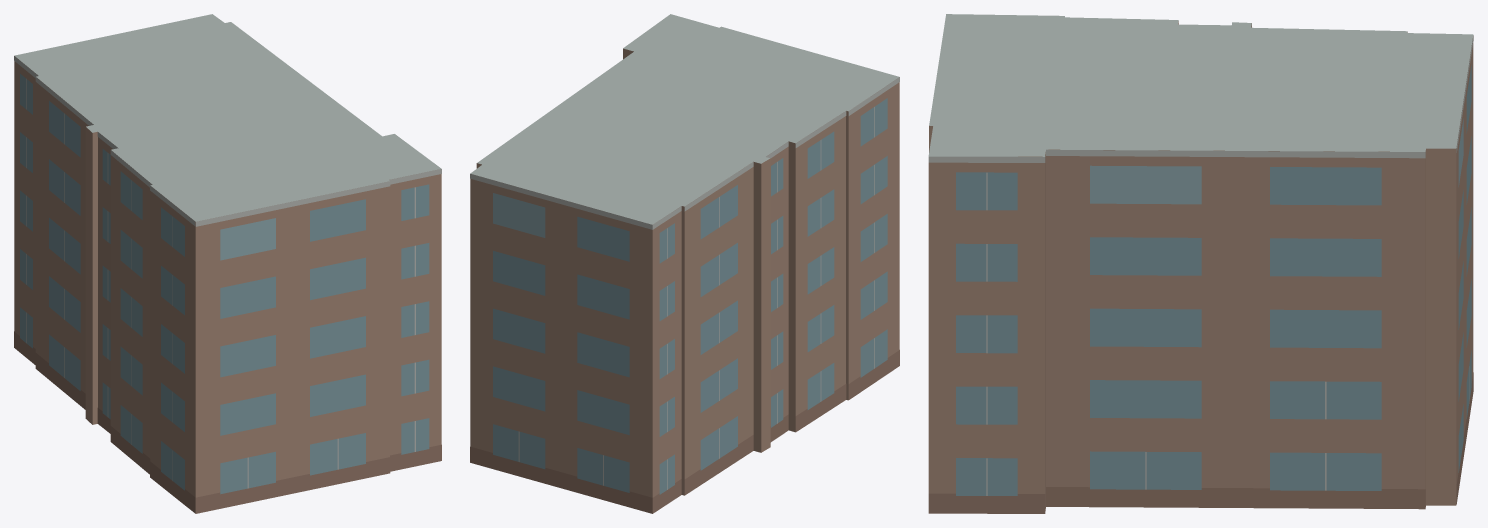
File: survey-upis-32646264.glb
3 renders of one model, left to right at view 1: azimuth 30°, elevation 25°; view 2: azimuth 150°, elevation 25°; view 3: azimuth 270°, elevation 25°, orthographic. The views are drawn at different scales.
Visible parts, largest first — view 1: survey-upis-32646264.tmp; view 2: survey-upis-32646264.tmp; view 3: survey-upis-32646264.tmp.
Part boxes in pixels (x1,y1,x2,y2): survey-upis-32646264.tmp: [14, 14, 441, 513]; survey-upis-32646264.tmp: [470, 14, 899, 513]; survey-upis-32646264.tmp: [928, 14, 1473, 513].
Size of the model in its own units: 11.97 by 13.95 by 19.3.
